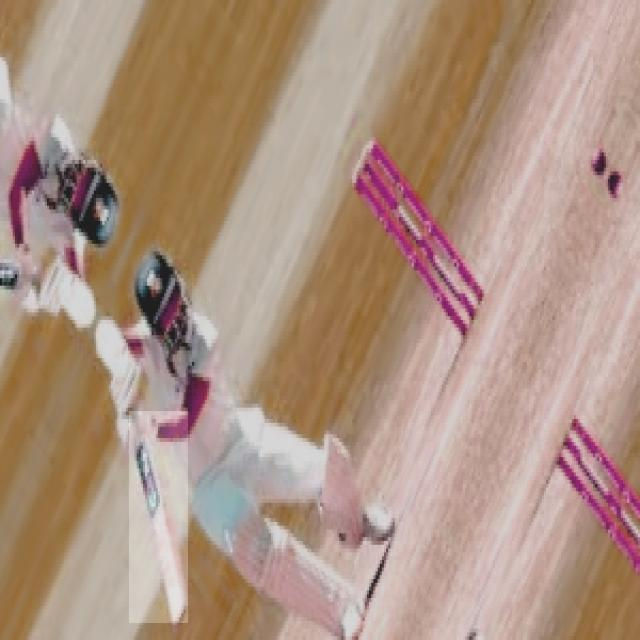bat: (131, 410, 192, 624)
